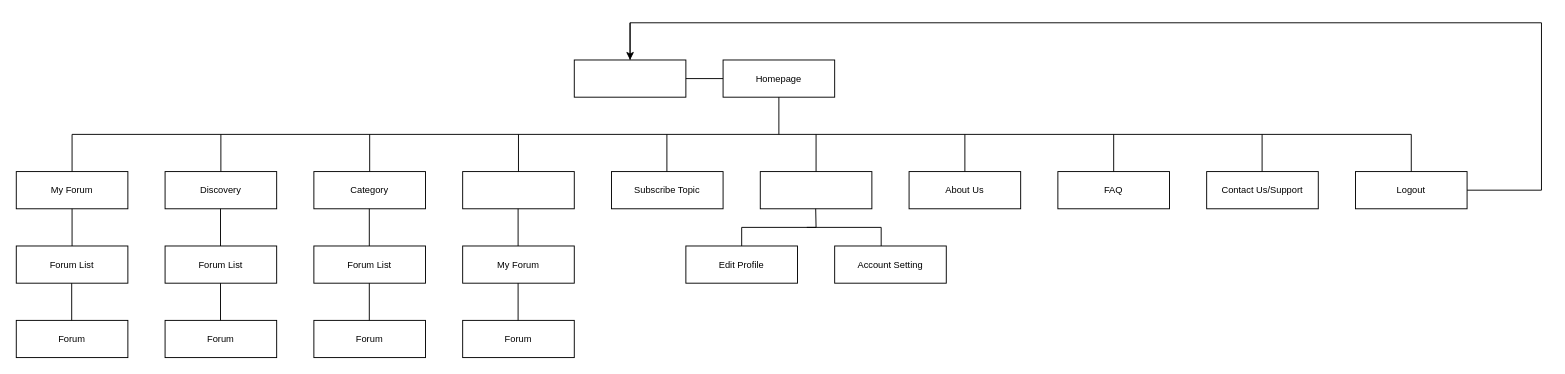
Image size: 1565x374. Some labels were removed from this diagram. Here are the shapes that lost their labels. From the top down, the centre of each, then its label:
the point at 629,78: Login
the point at 518,190: New Thread
the point at 815,190: Profile
